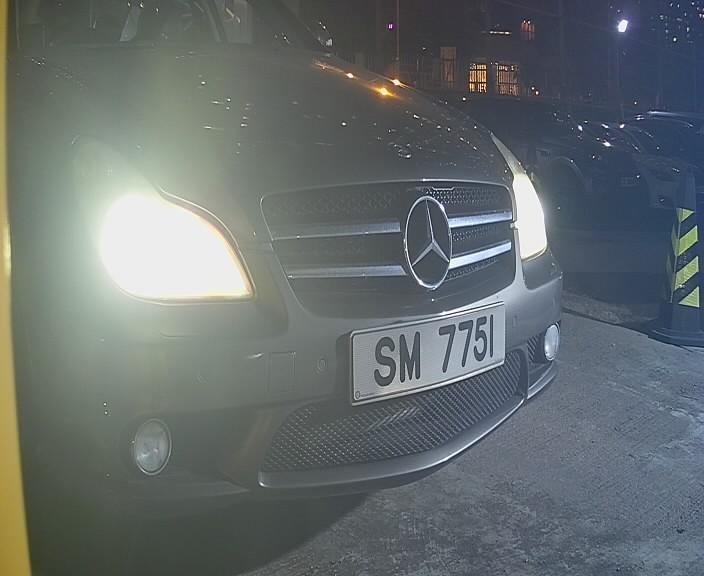License Plate: (334, 293, 521, 425)
